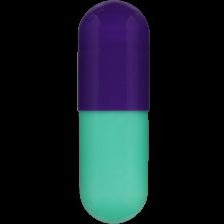0093-3160: (0, 0, 224, 224)
